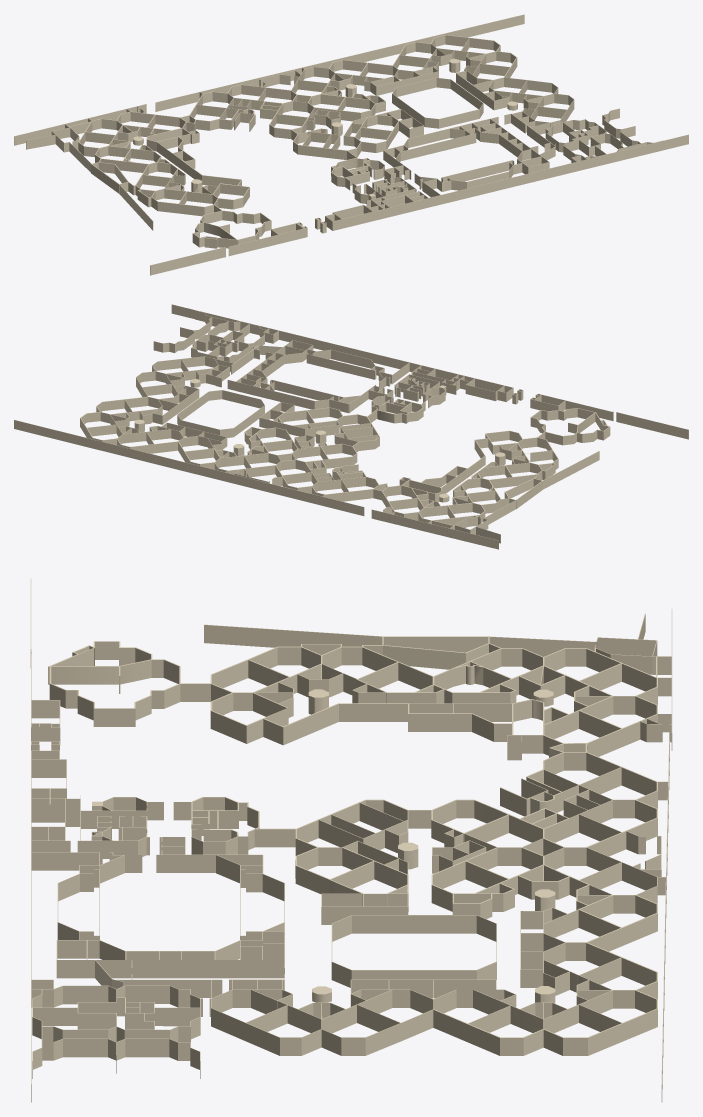
Rendered from school-walls-v2.glb.
3 views of the same model, one above another, from view 1: azimuth 30°, elevation 25°; view 2: azimuth 150°, elevation 25°; view 3: azimuth 270°, elevation 25° (orthographic). The views are drawn at different scales.
Parts seen in each view (by area): view 1: Line122; view 2: Line122; view 3: Line122.
Boxes of the visible parts, x1=… form: Line122: x1=14, y1=14, x2=688, y2=275; Line122: x1=14, y1=304, x2=688, y2=549; Line122: x1=30, y1=578, x2=672, y2=1102.
Bounding box in the file's own units: 183 × 3.41 × 98.35.
